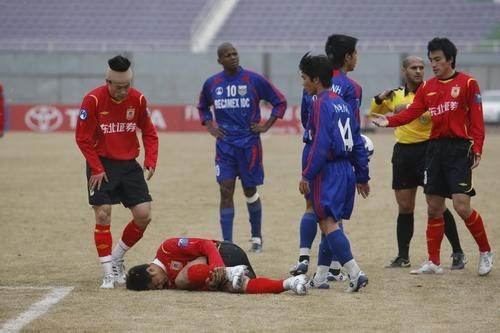falling: (124, 231, 312, 301)
